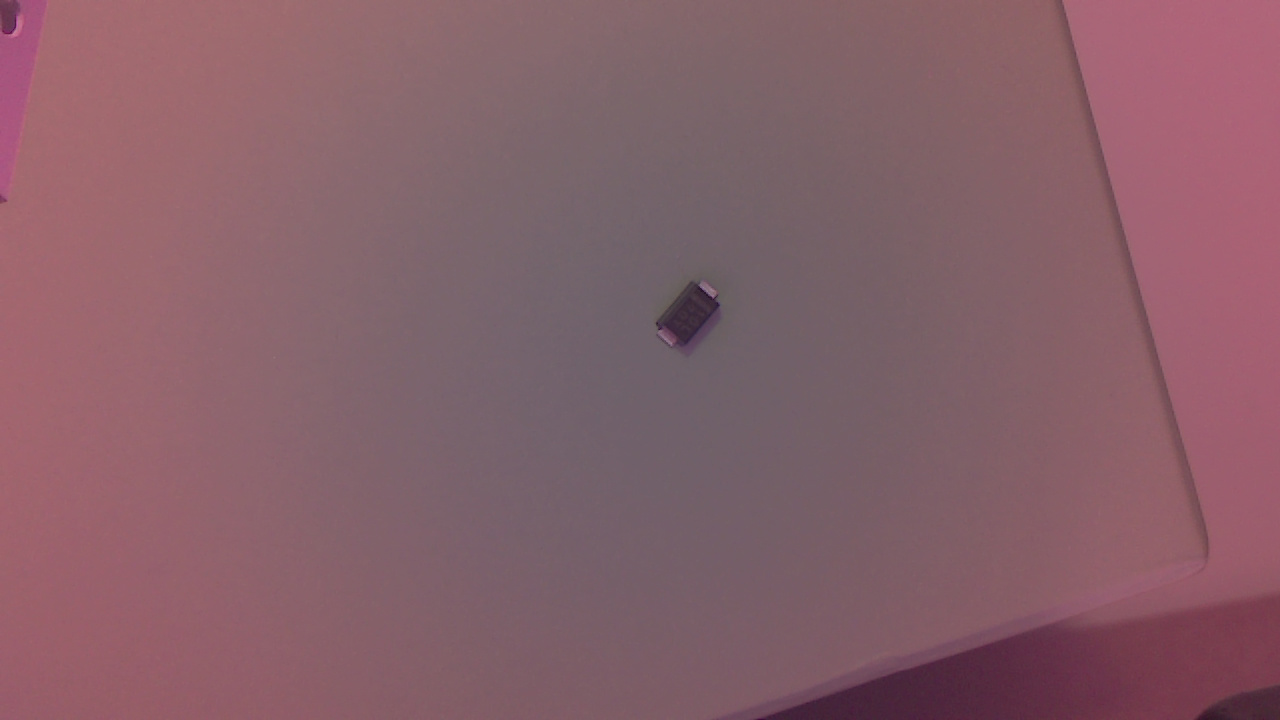Diode: (660, 282, 726, 360)
